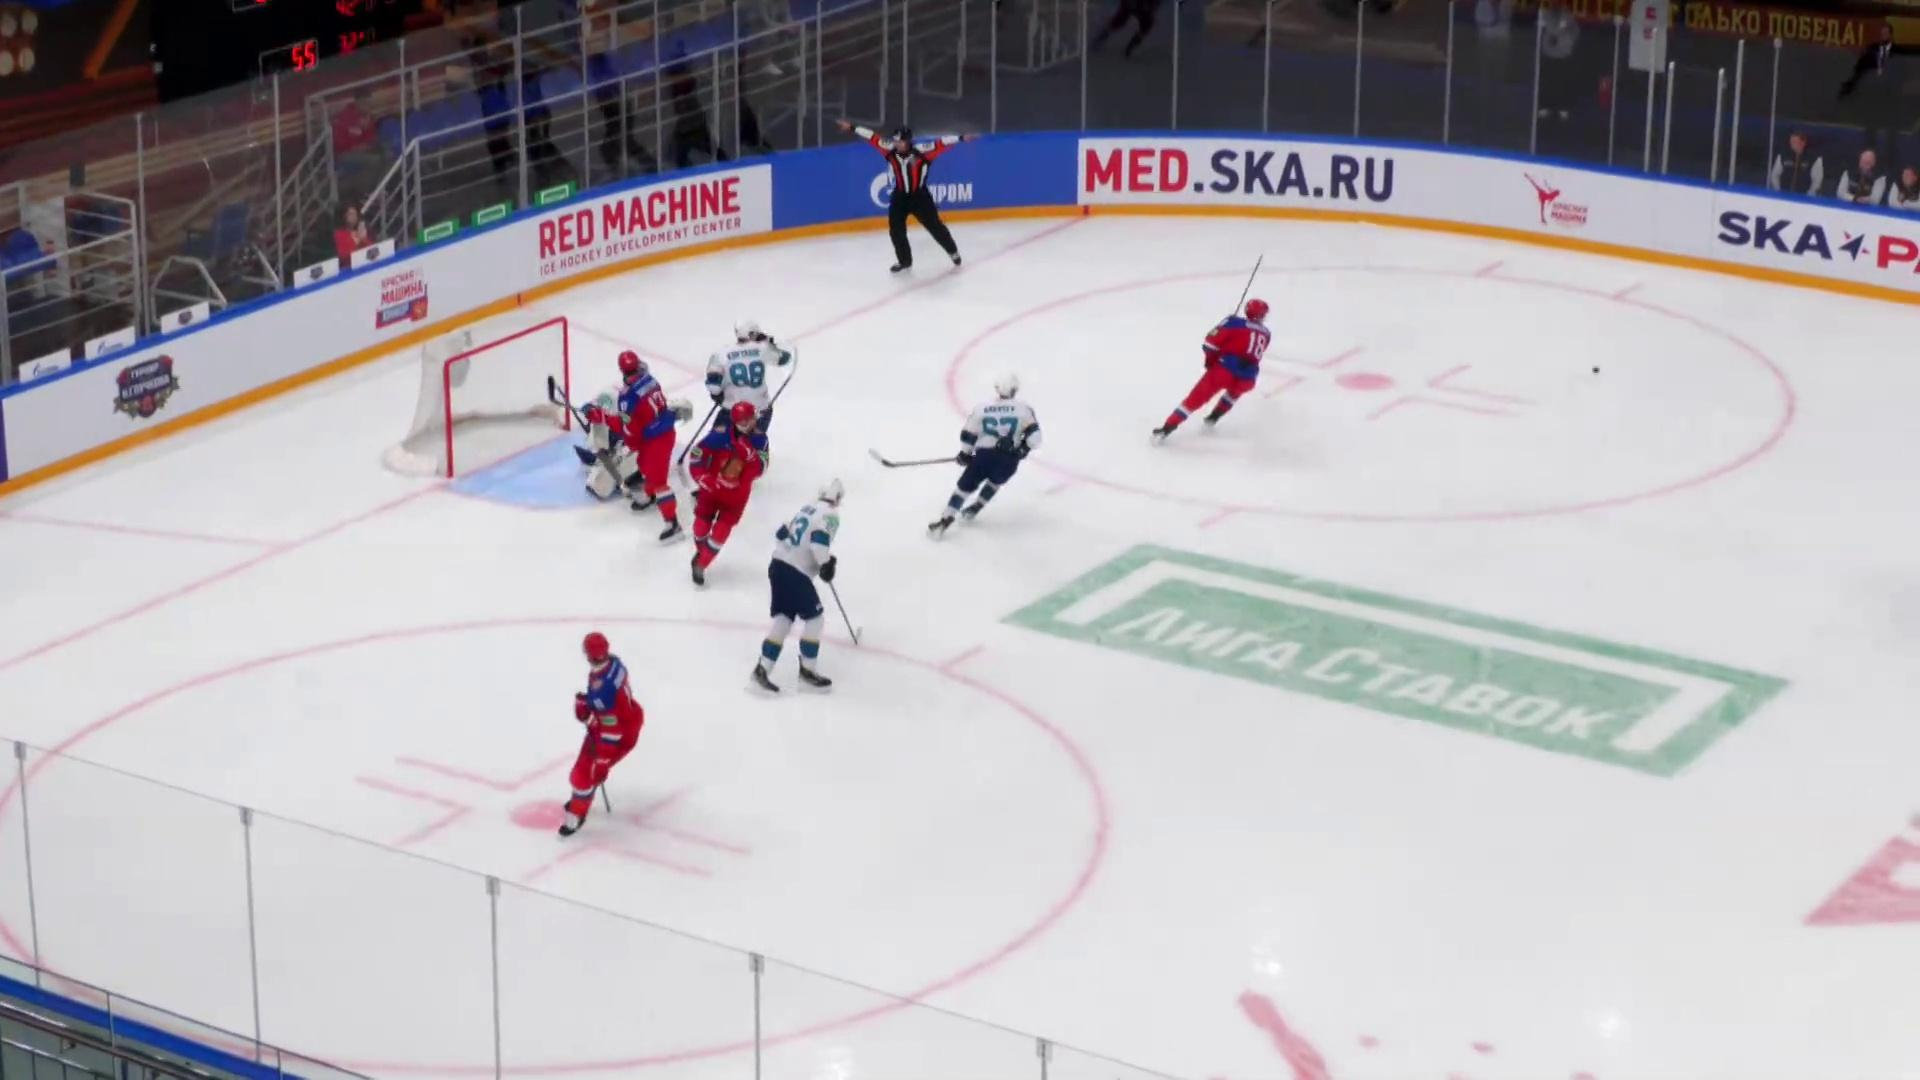ball: (1592, 367, 1601, 375)
